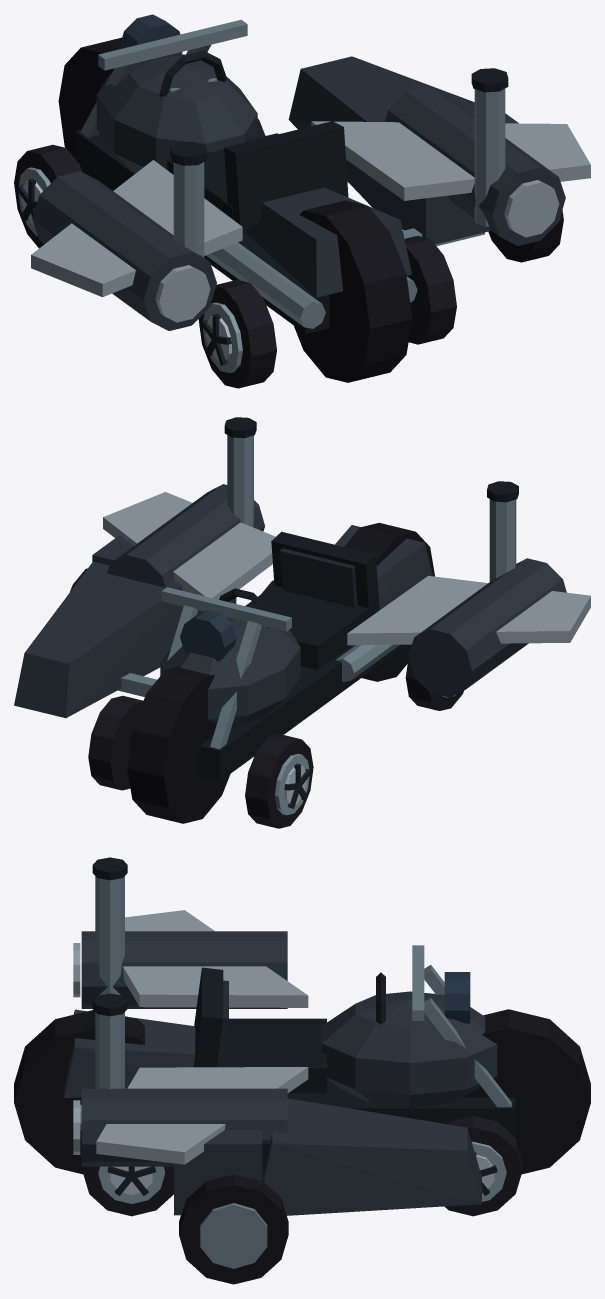
Rendered from kart.glb.
3 views of the same model, one above another, from view 1: azimuth 30°, elevation 25°; view 2: azimuth 150°, elevation 25°; view 3: azimuth 270°, elevation 25° (orthographic). The views are drawn at different scales.
Visible parts, largest first — view 1: identity-motorbike-motorbike-tank-and-fork, identity-motorbike-motif-engine-pods, identity-motorbike-motif-wings, identity-motorbike-motorcycle-sidecar, identity-motorbike-driver-cockpit, identity-motorbike-motif-exhaust, wheel-rear-left, wheel-rear-right, wheel-front-left; view 2: identity-motorbike-motorbike-tank-and-fork, identity-motorbike-motorcycle-sidecar, identity-motorbike-motif-engine-pods, identity-motorbike-motif-wings, identity-motorbike-driver-cockpit, identity-motorbike-motif-exhaust, wheel-front-left, wheel-front-right, wheel-rear-left; view 3: identity-motorbike-motorbike-tank-and-fork, identity-motorbike-motorcycle-sidecar, identity-motorbike-motif-engine-pods, identity-motorbike-motif-wings, identity-motorbike-driver-cockpit, identity-motorbike-motif-exhaust, wheel-front-right, wheel-rear-right.
Part boxes in pixels (bbox=[...]): identity-motorbike-motorbike-tank-and-fork: bbox=[58, 14, 417, 382]; identity-motorbike-motif-engine-pods: bbox=[32, 86, 565, 330]; identity-motorbike-motif-wings: bbox=[31, 121, 590, 297]; identity-motorbike-motorcycle-sidecar: bbox=[288, 56, 563, 262]; identity-motorbike-driver-cockpit: bbox=[159, 50, 348, 231]; identity-motorbike-motif-exhaust: bbox=[170, 68, 508, 257]; wheel-rear-left: bbox=[198, 279, 276, 388]; wheel-rear-right: bbox=[404, 236, 456, 344]; wheel-front-left: bbox=[14, 144, 82, 248]; identity-motorbike-motorbike-tank-and-fork: bbox=[127, 522, 434, 823]; identity-motorbike-motorcycle-sidecar: bbox=[14, 535, 236, 718]; identity-motorbike-motif-engine-pods: bbox=[107, 484, 566, 697]; identity-motorbike-motif-wings: bbox=[103, 492, 590, 645]; identity-motorbike-driver-cockpit: bbox=[219, 531, 379, 669]; identity-motorbike-motif-exhaust: bbox=[224, 417, 518, 581]; wheel-front-left: bbox=[245, 734, 313, 828]; wheel-front-right: bbox=[88, 695, 143, 790]; wheel-rear-left: bbox=[405, 657, 463, 710]; identity-motorbike-motorbike-tank-and-fork: bbox=[14, 945, 590, 1174]; identity-motorbike-motorcycle-sidecar: bbox=[174, 1098, 481, 1284]; identity-motorbike-motif-engine-pods: bbox=[73, 931, 287, 1166]; identity-motorbike-motif-wings: bbox=[96, 910, 308, 1164]; identity-motorbike-driver-cockpit: bbox=[194, 967, 385, 1093]; identity-motorbike-motif-exhaust: bbox=[92, 857, 127, 1089]; wheel-front-right: bbox=[444, 1116, 522, 1216]; wheel-rear-right: bbox=[82, 1166, 173, 1216].
Bounding box in the file's own units: 2.92 × 1.33 × 2.94.
